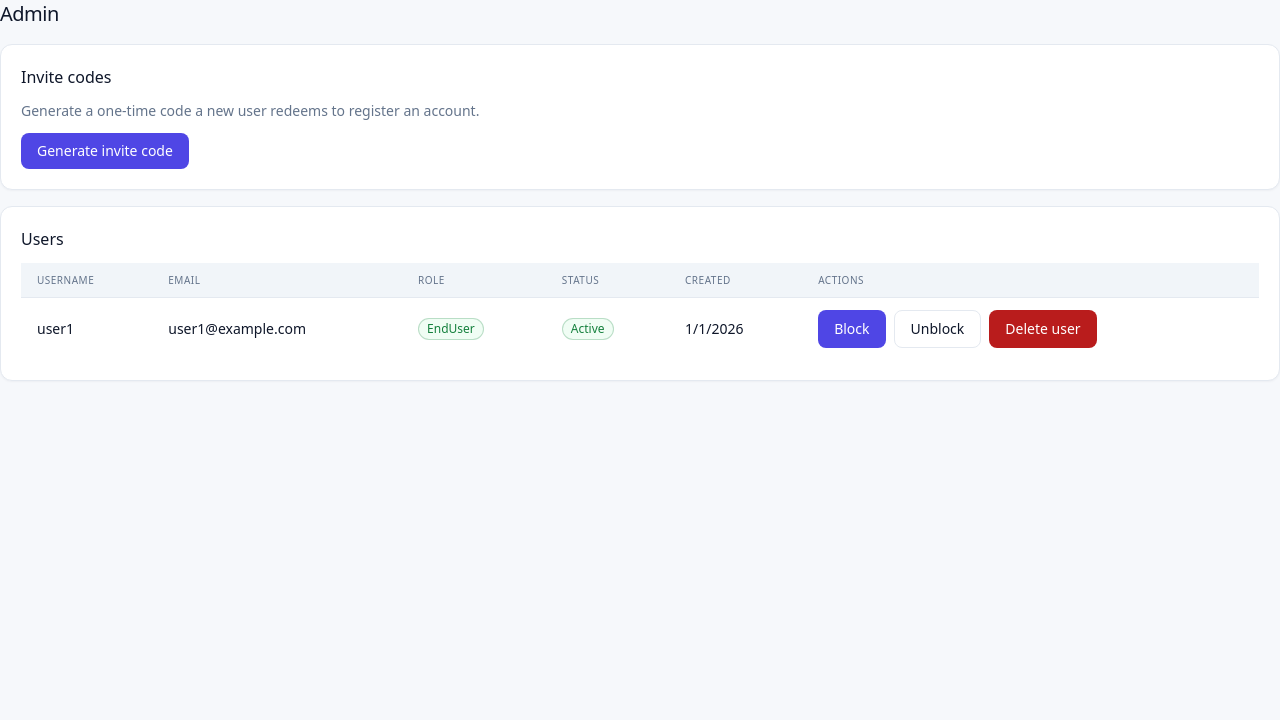
it: AdminPage › resets the confirmation when the dialog is reopened
Click the button "Delete user": (1043, 329) [989,310,1097,348]
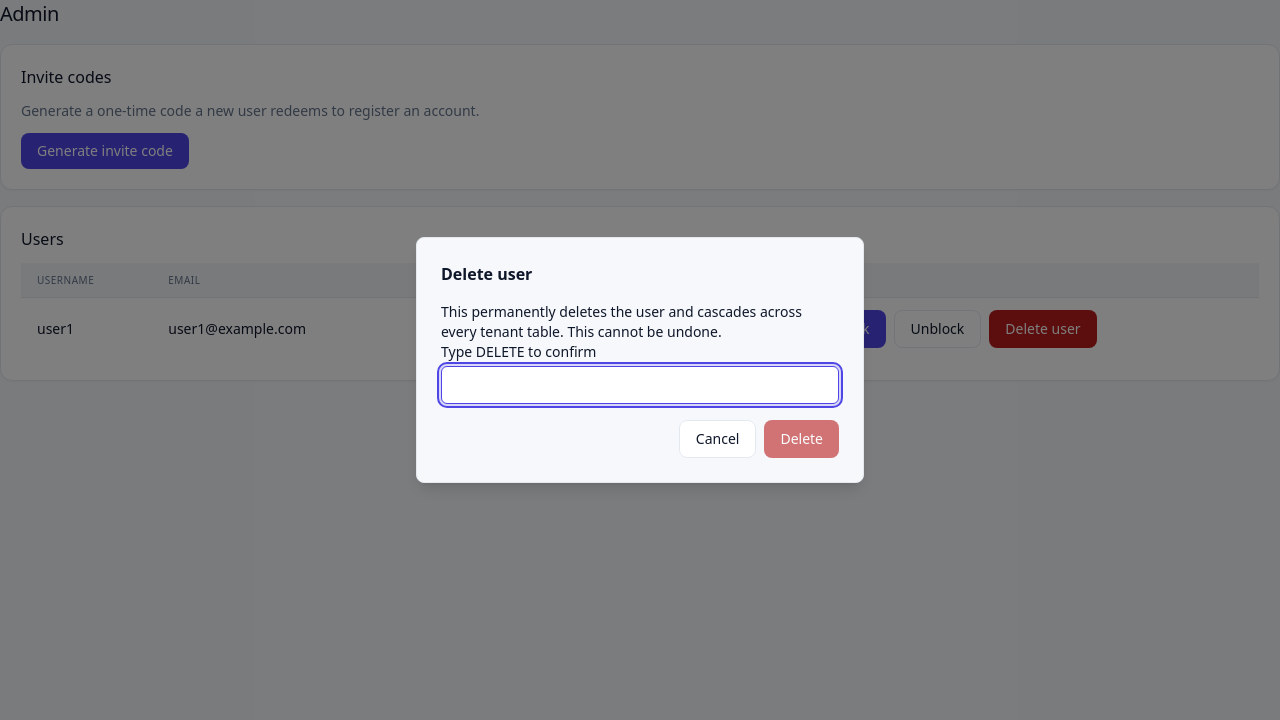
In the field labelled "Type DELETE to confirm": (640, 385) [441,366,839,404], type "DELETE"
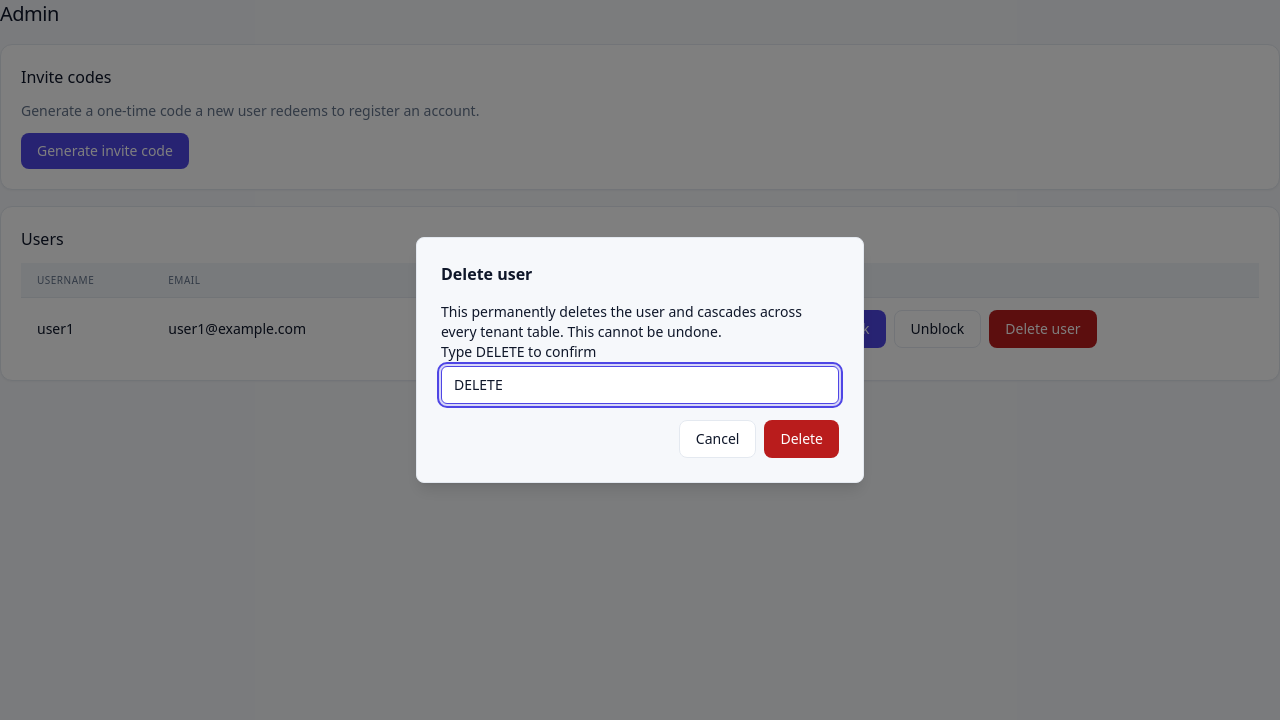
Expected: the button "Delete" is enabled, [764,420,839,458]
Press Escape
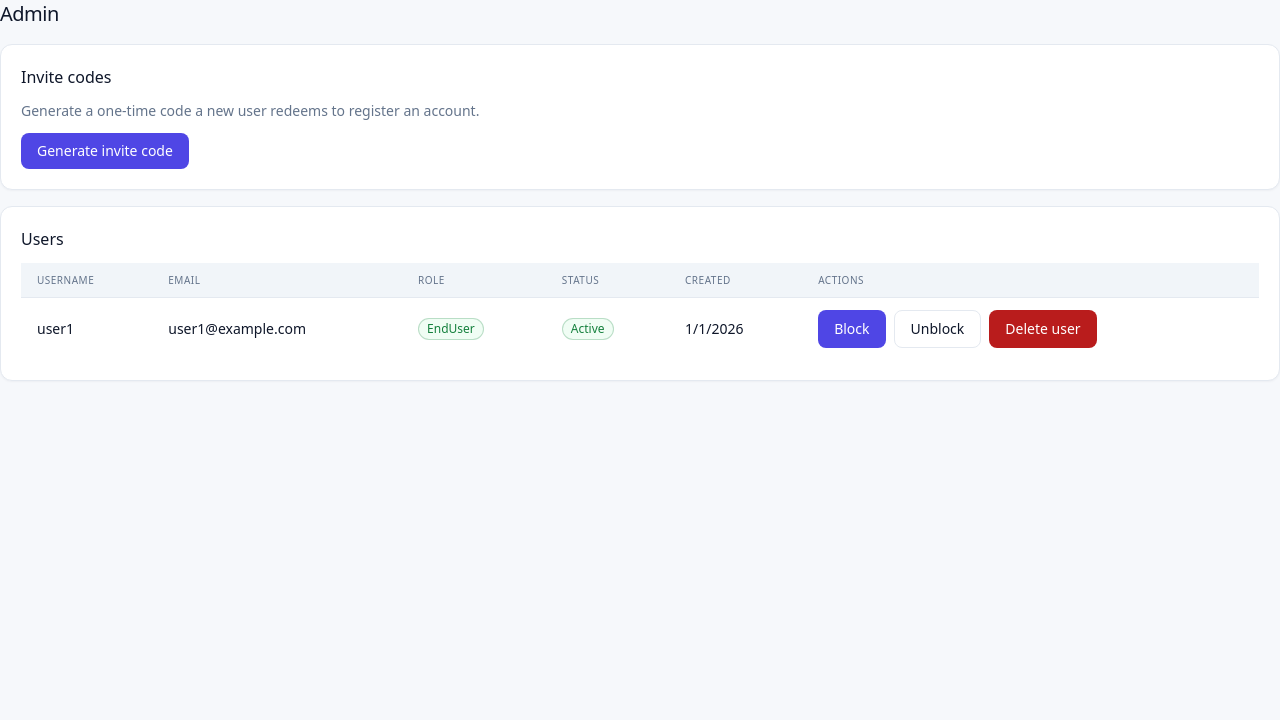
Click the button "Delete user": (1043, 329) [989,310,1097,348]
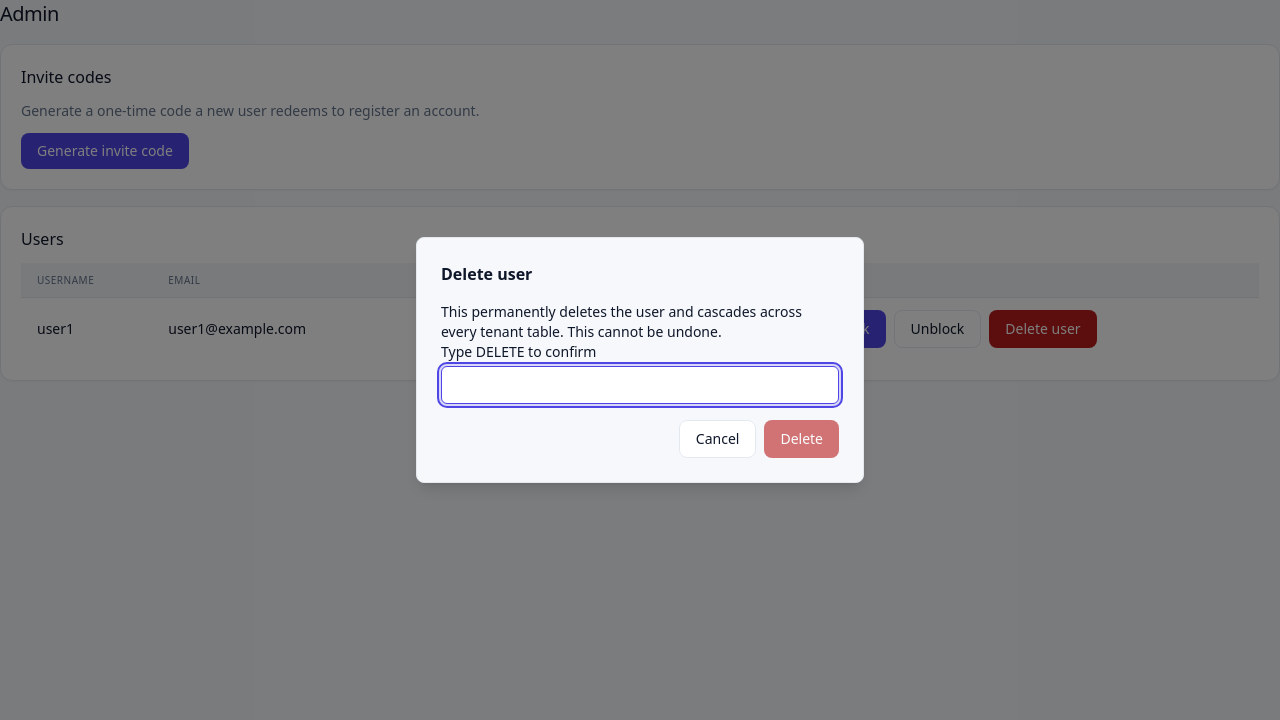
Expected: the field labelled "Type DELETE to confirm" is empty, [441,366,839,404]
Expected: the button "Delete" is disabled, [764,420,839,458]
